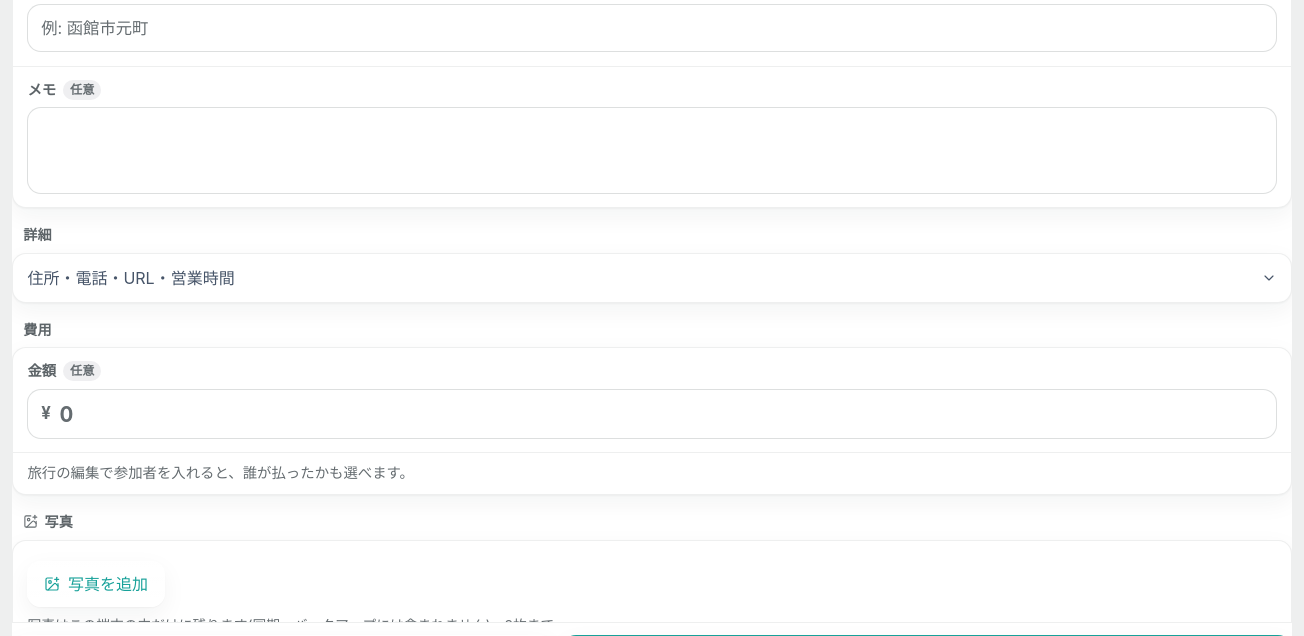
旅行の予定の入力: 出発地と目的地の住所(2026-10-15、要望「出発地と目的地は住所もそれぞれ入れられると間違えがなくていい」) › 移動の時は、詳細に「出発地の住所」と「目的地の住所」が出る。移動以外は「住所」だけ
(page scrolled)
Click the button "住所・電話・URL・営業時間" at (131, 278), box [13,254,1291,302]
(page scrolled)
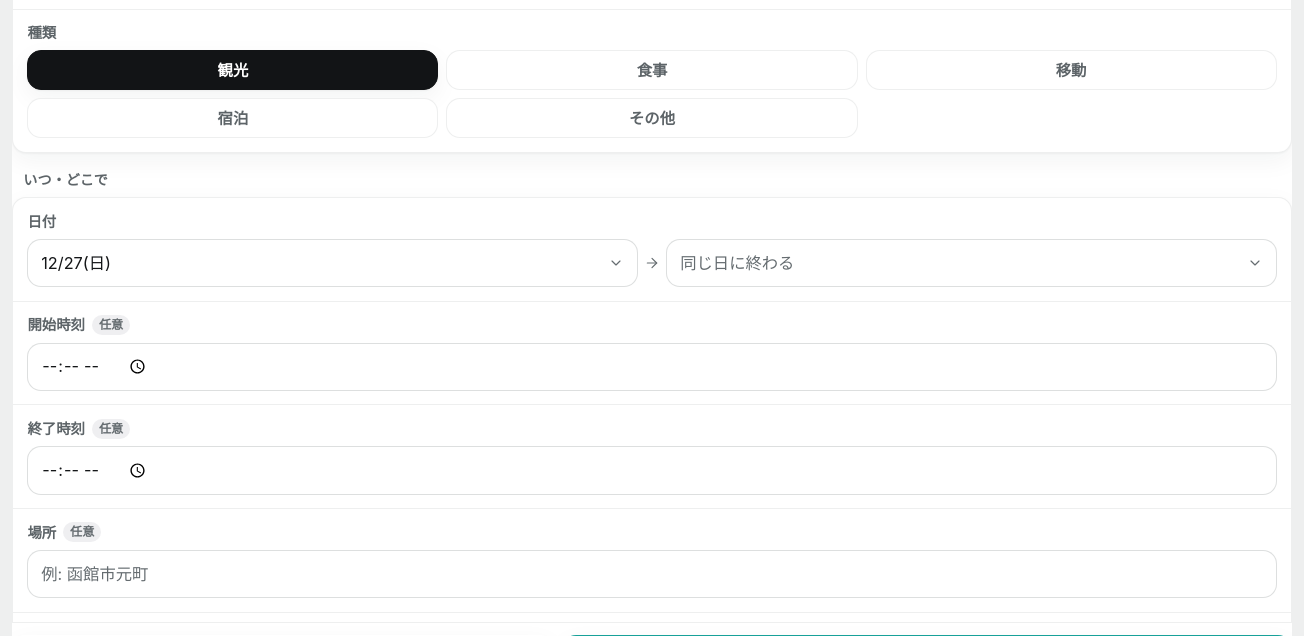
Expected: the field labelled "目的地の住所" is not shown
Click the button "移動" at (1071, 70), box [866,50,1277,90]
(page scrolled)
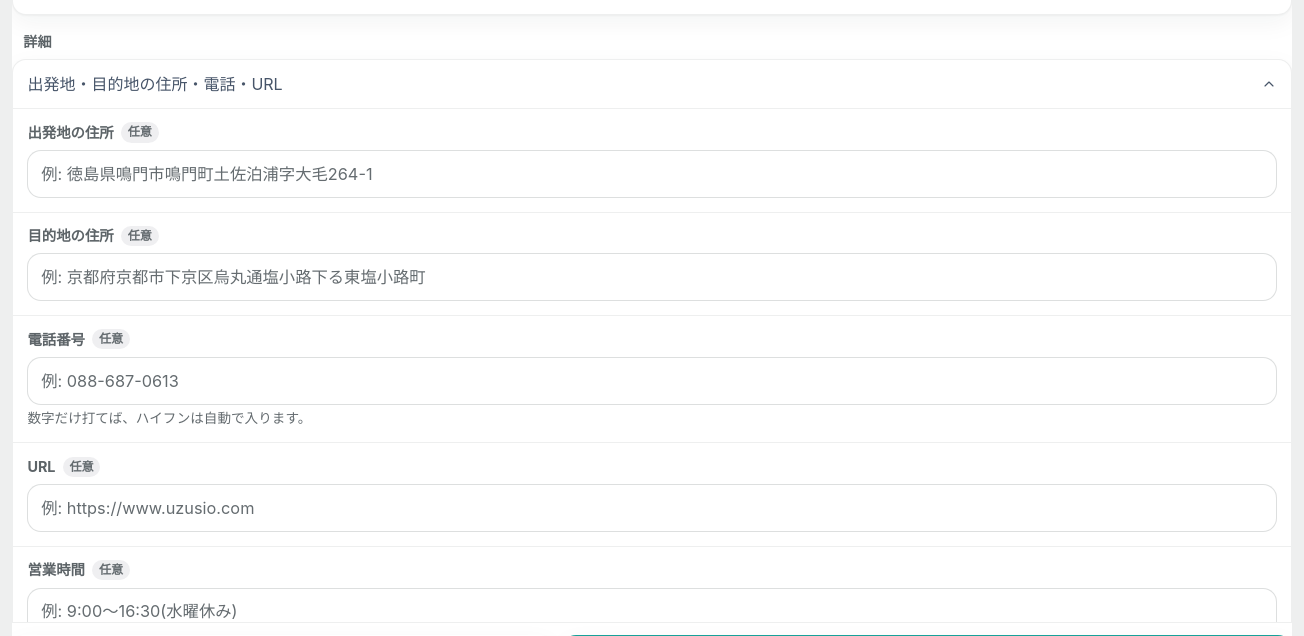
Result: the field labelled "出発地の住所 任意" is shown at [27,150,1277,198]
Result: the field labelled "目的地の住所 任意" is shown at [27,254,1277,302]
